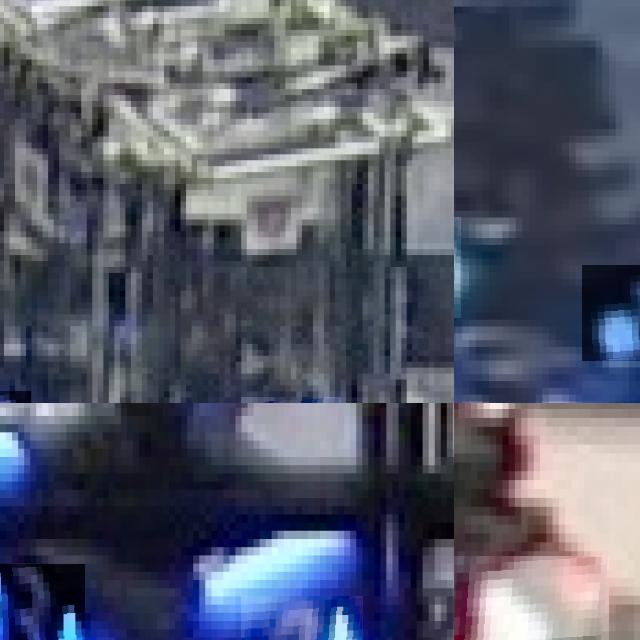B3: (0, 563, 84, 640), (241, 596, 362, 640)
B5: (582, 265, 640, 360)
R4: (454, 556, 609, 640)
